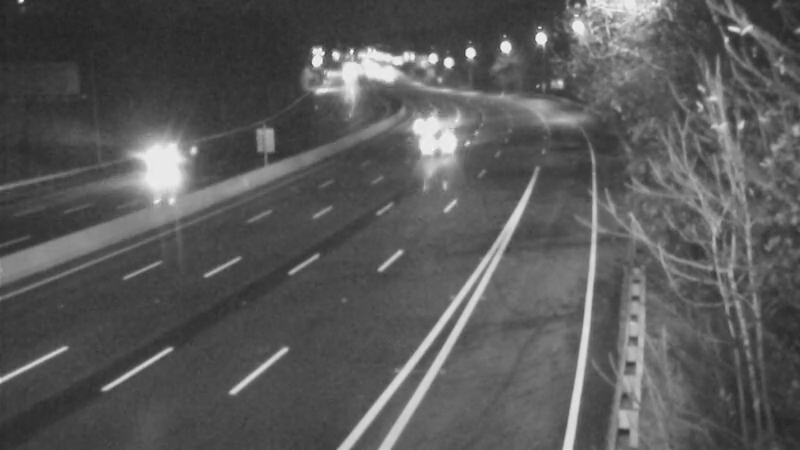vehicle: (124, 116, 204, 196), (390, 98, 440, 148), (420, 114, 470, 164)
